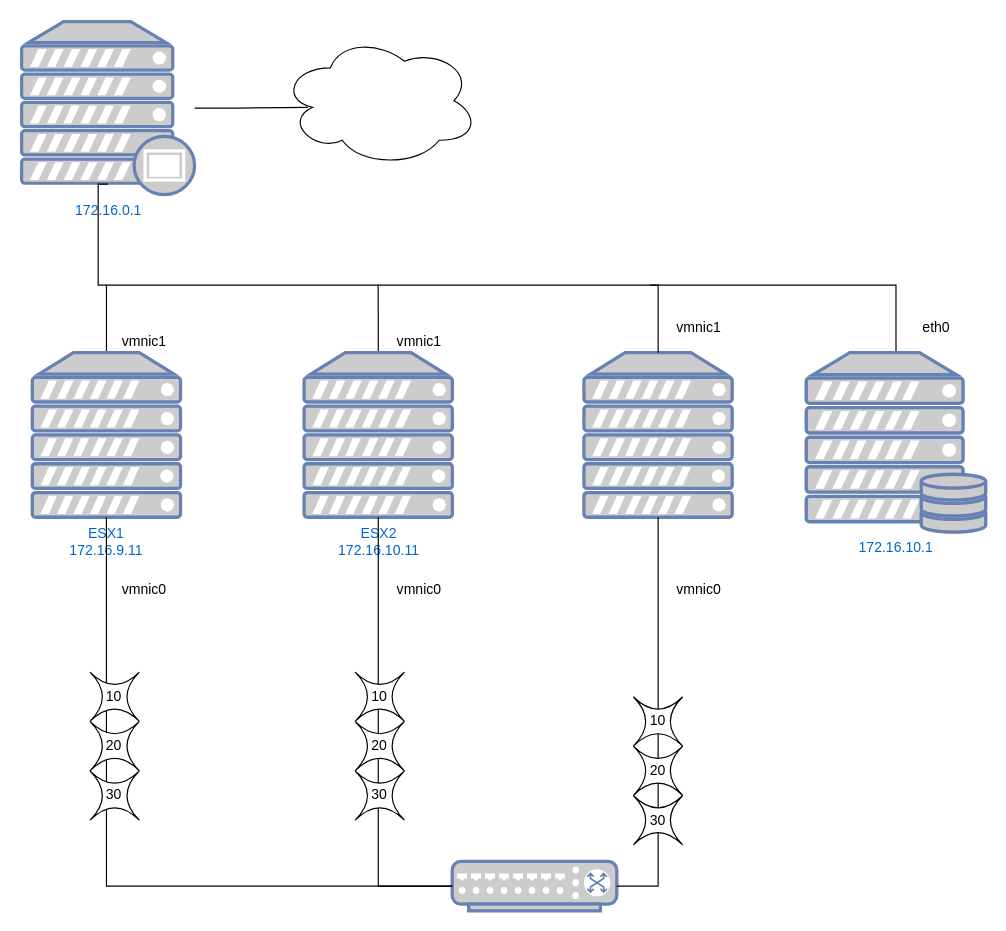
This 1006x931 diagram has some shape labels left out. The shapes that lost their labels are listed below. From the top down, each one's centre as x and y in pixels, then its label:
pixel 379 100: WAN
pixel 657 434: ESX3 172.16.11.11
